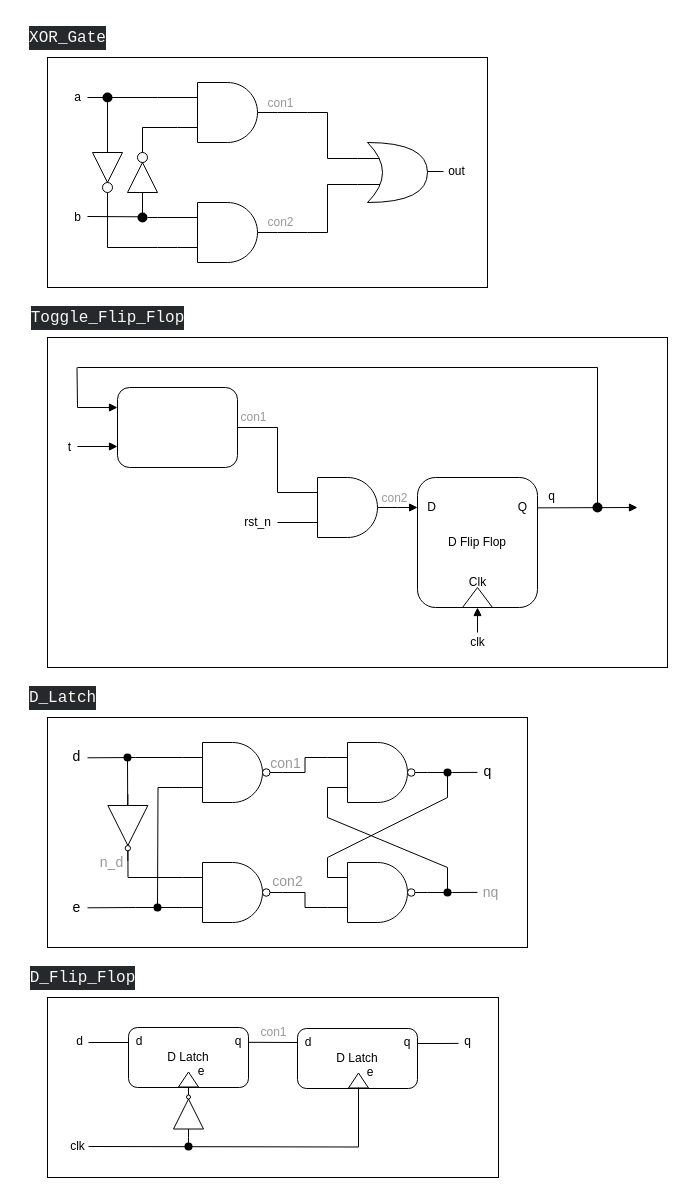
Image size: 685x1195. Some labels were removed from this diagram. The centre of each missing label's shape, as x and y in pixels:
n_clk: (x=188, y=1112)
XOR Gate: (x=177, y=427)
